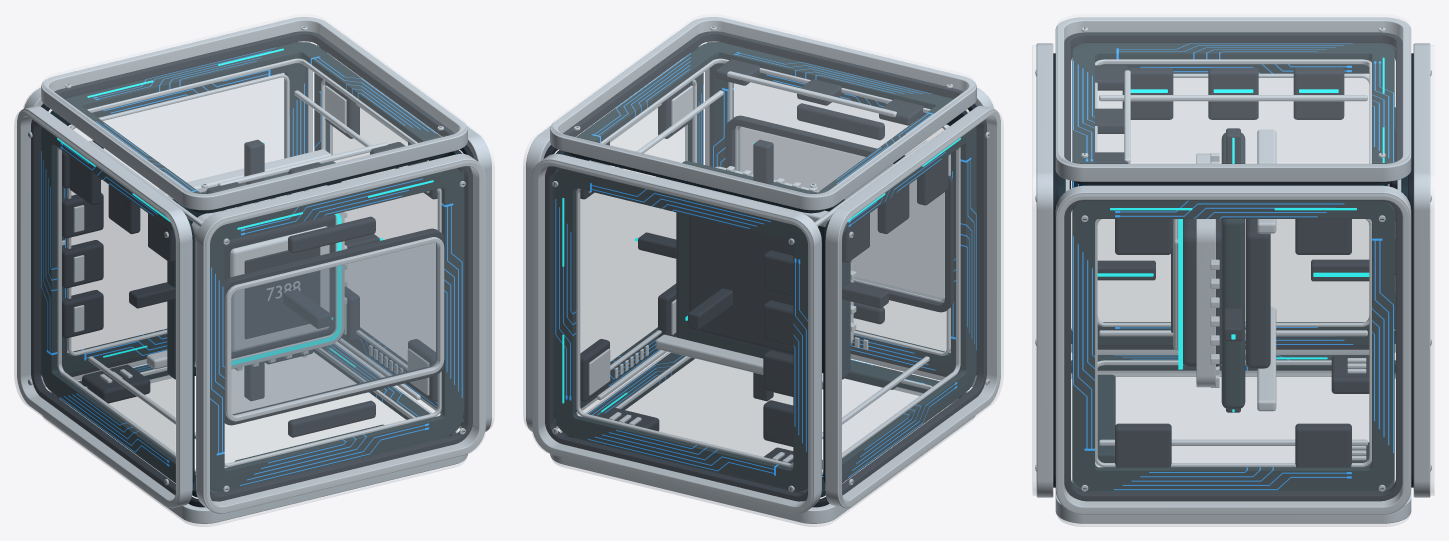
3 views of the same model, side by side, from view 1: azimuth 30°, elevation 25°; view 2: azimuth 150°, elevation 25°; view 3: azimuth 270°, elevation 25° (orthographic). The views are drawn at different scales.
Visible parts, largest first — view 1: FACE_WEB__ACRYLIC, FACE_DATA__ACRYLIC, FACE_SYSTEM__ACRYLIC, FACE_WEB__SMOKED_GLASS, FACE_WEB__CHROME, FACE_API__ACRYLIC, FACE_WEB__PCB, FACE_SYSTEM__CHROME, FACE_DATA__CHROME, FACE_WEB__GRAPHITE, FACE_DATA__PCB, FACE_SYSTEM__PCB (+19 smaller); view 2: FACE_API__ACRYLIC, FACE_DATA__ACRYLIC, FACE_SYSTEM__ACRYLIC, FACE_API__PCB, FACE_API__CHROME, FACE_SYSTEM__CHROME, FACE_DATA__CHROME, FACE_AI__ACRYLIC, FACE_INFRA__ACRYLIC, FACE_WEB__SMOKED_GLASS, FACE_API__GRAPHITE, FACE_DATA__PCB (+18 smaller); view 3: FACE_AI__ACRYLIC, FACE_SYSTEM__ACRYLIC, FACE_AI__PCB, FACE_DATA__ACRYLIC, FACE_AI__CHROME, FACE_SYSTEM__CHROME, FACE_AI__GRAPHITE, FACE_INFRA__ACRYLIC, FACE_SYSTEM__PCB, FACE_API__CHROME, FACE_WEB__CHROME, FACE_DATA__GRAPHITE (+19 smaller).
Boxes of the visible parts, left/top/right/bottom form: FACE_WEB__ACRYLIC: left=205, top=160, right=485, bottom=513; FACE_DATA__ACRYLIC: left=14, top=110, right=178, bottom=507; FACE_SYSTEM__ACRYLIC: left=43, top=14, right=465, bottom=195; FACE_WEB__SMOKED_GLASS: left=231, top=243, right=437, bottom=415; FACE_WEB__CHROME: left=196, top=153, right=485, bottom=513; FACE_API__ACRYLIC: left=23, top=73, right=283, bottom=350; FACE_WEB__PCB: left=210, top=168, right=462, bottom=491; FACE_SYSTEM__CHROME: left=41, top=17, right=467, bottom=210; FACE_DATA__CHROME: left=17, top=105, right=192, bottom=508; FACE_WEB__GRAPHITE: left=210, top=166, right=472, bottom=501; FACE_DATA__PCB: left=41, top=126, right=194, bottom=482; FACE_SYSTEM__PCB: left=64, top=42, right=448, bottom=213; FACE_API__ACRYLIC: left=532, top=160, right=812, bottom=513; FACE_DATA__ACRYLIC: left=839, top=110, right=1003, bottom=507; FACE_SYSTEM__ACRYLIC: left=552, top=14, right=974, bottom=195; FACE_API__PCB: left=555, top=168, right=807, bottom=491; FACE_API__CHROME: left=532, top=153, right=821, bottom=513; FACE_SYSTEM__CHROME: left=550, top=17, right=976, bottom=210; FACE_DATA__CHROME: left=825, top=105, right=1000, bottom=508; FACE_AI__ACRYLIC: left=523, top=35, right=687, bottom=428; FACE_INFRA__ACRYLIC: left=552, top=359, right=974, bottom=526; FACE_WEB__SMOKED_GLASS: left=738, top=126, right=944, bottom=300; FACE_API__GRAPHITE: left=545, top=166, right=807, bottom=501; FACE_DATA__PCB: left=823, top=126, right=976, bottom=482; FACE_AI__ACRYLIC: left=1057, top=194, right=1409, bottom=514; FACE_SYSTEM__ACRYLIC: left=1057, top=14, right=1409, bottom=166; FACE_AI__PCB: left=1072, top=200, right=1394, bottom=490; FACE_DATA__ACRYLIC: left=1071, top=61, right=1395, bottom=327; FACE_AI__CHROME: left=1055, top=185, right=1411, bottom=514; FACE_SYSTEM__CHROME: left=1055, top=17, right=1411, bottom=181; FACE_AI__GRAPHITE: left=1064, top=200, right=1402, bottom=501; FACE_INFRA__ACRYLIC: left=1057, top=374, right=1409, bottom=526; FACE_SYSTEM__PCB: left=1072, top=43, right=1394, bottom=185; FACE_API__CHROME: left=1387, top=43, right=1431, bottom=497; FACE_WEB__CHROME: left=1035, top=43, right=1069, bottom=497; FACE_DATA__GRAPHITE: left=1070, top=43, right=1395, bottom=349.
Size of the model in its own units: 2.55 by 2.55 by 2.55.
